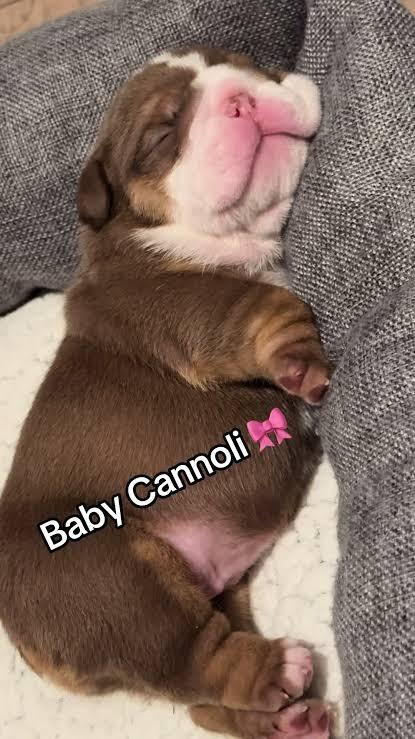puppy-dog: (1, 45, 335, 739)
